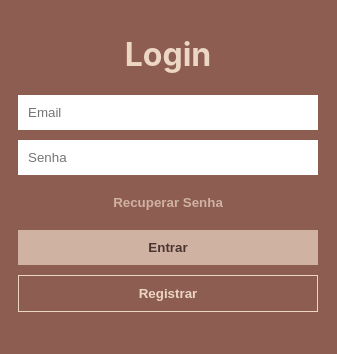
Test: Login › given email, when empty, then show required error message
Type "anyValue" into the field with test id "email" at (168, 113), box [18, 95, 318, 130]
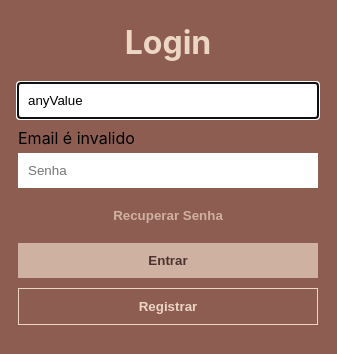
Clear the field with test id "email" at (168, 100), box [18, 83, 318, 118]
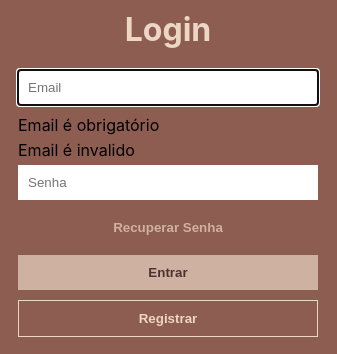
Expected: the text "Email é obrigatório" is shown, [18, 115, 159, 135]
